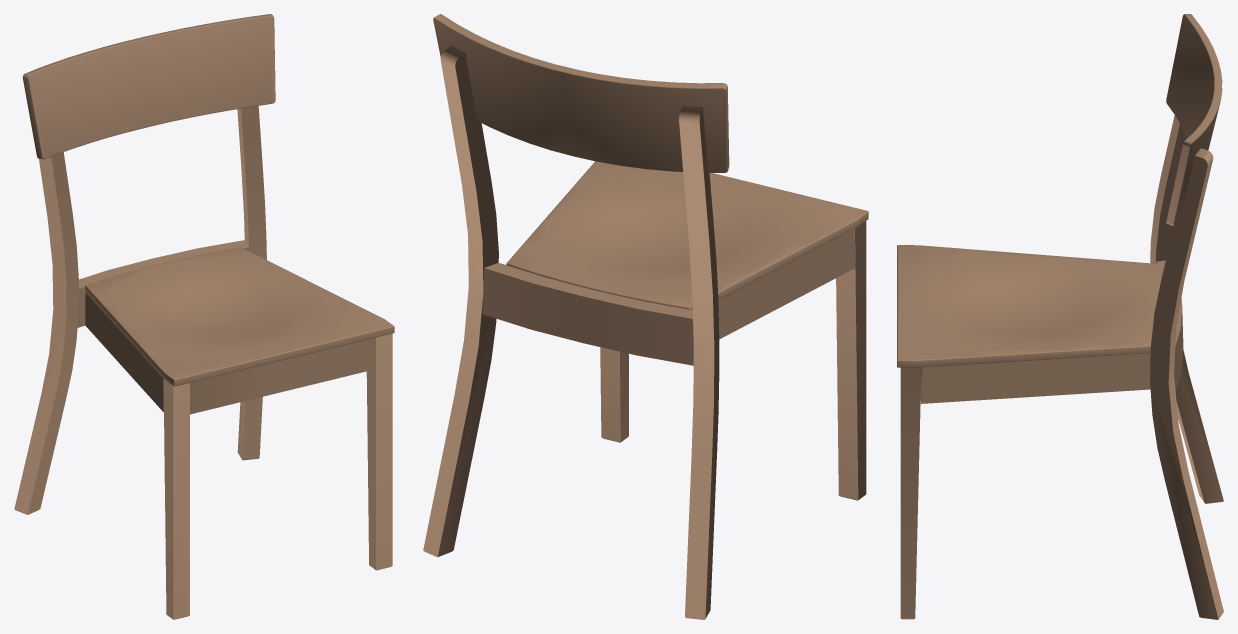
File: stul.glb
3 renders of one model, left to right at view 1: azimuth 30°, elevation 25°; view 2: azimuth 150°, elevation 25°; view 3: azimuth 270°, elevation 25°, orthographic. The views are drawn at different scales.
Parts seen in each view (by area): view 1: Bergamo_chair; view 2: Bergamo_chair; view 3: Bergamo_chair.
Part boxes in pixels (<box>): Bergamo_chair: <box>14,14,394,619</box>; Bergamo_chair: <box>423,14,868,619</box>; Bergamo_chair: <box>897,14,1223,619</box>.
Bounding box in the file's own units: 0.4799 × 0.8268 × 0.5051.
